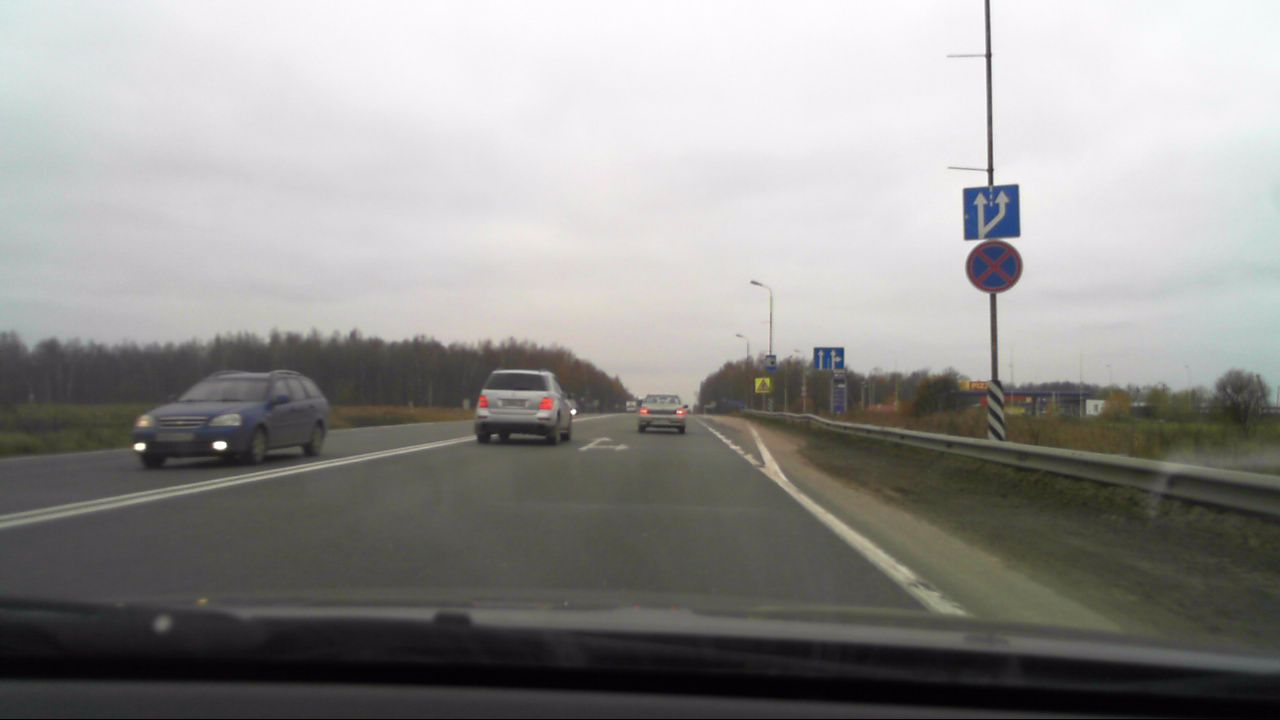No Parking: (966, 241, 1023, 295)
